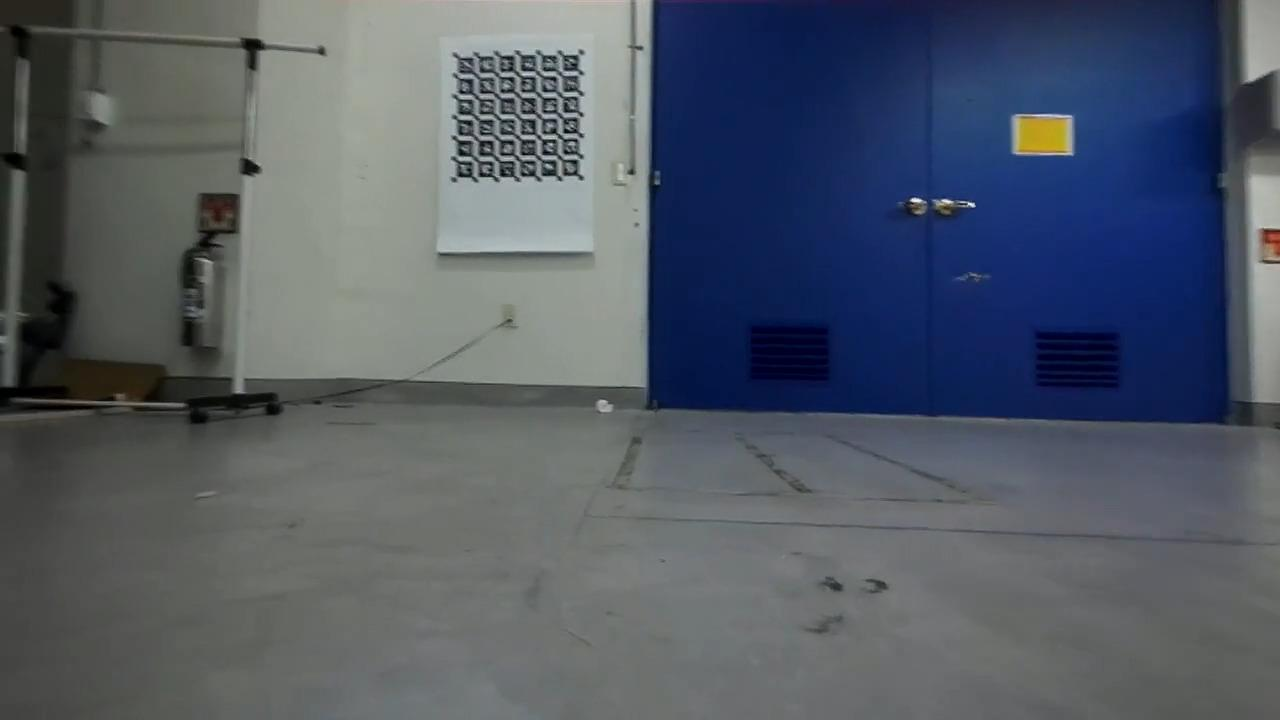crazyflie: (945, 266, 999, 289)
